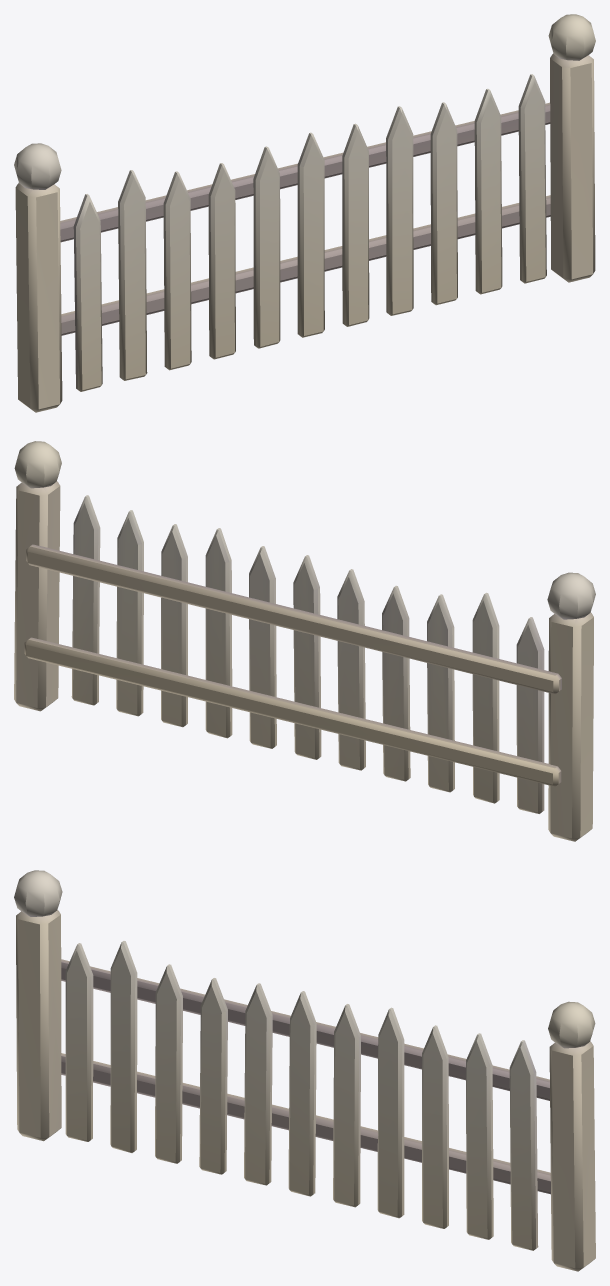
The model's file is common_town_fence_a.glb.
3 views of the same model, one above another, from view 1: azimuth 30°, elevation 25°; view 2: azimuth 150°, elevation 25°; view 3: azimuth 330°, elevation 25° (orthographic).
Visible parts, largest first — view 1: common_town_fence_a; view 2: common_town_fence_a; view 3: common_town_fence_a.
Part boxes in pixels (x1,y1,x2,y2): common_town_fence_a: (14,14,595,412); common_town_fence_a: (14,441,595,841); common_town_fence_a: (14,870,595,1271).
Size of the model in its own units: 3.24 by 1.4 by 0.2701.
